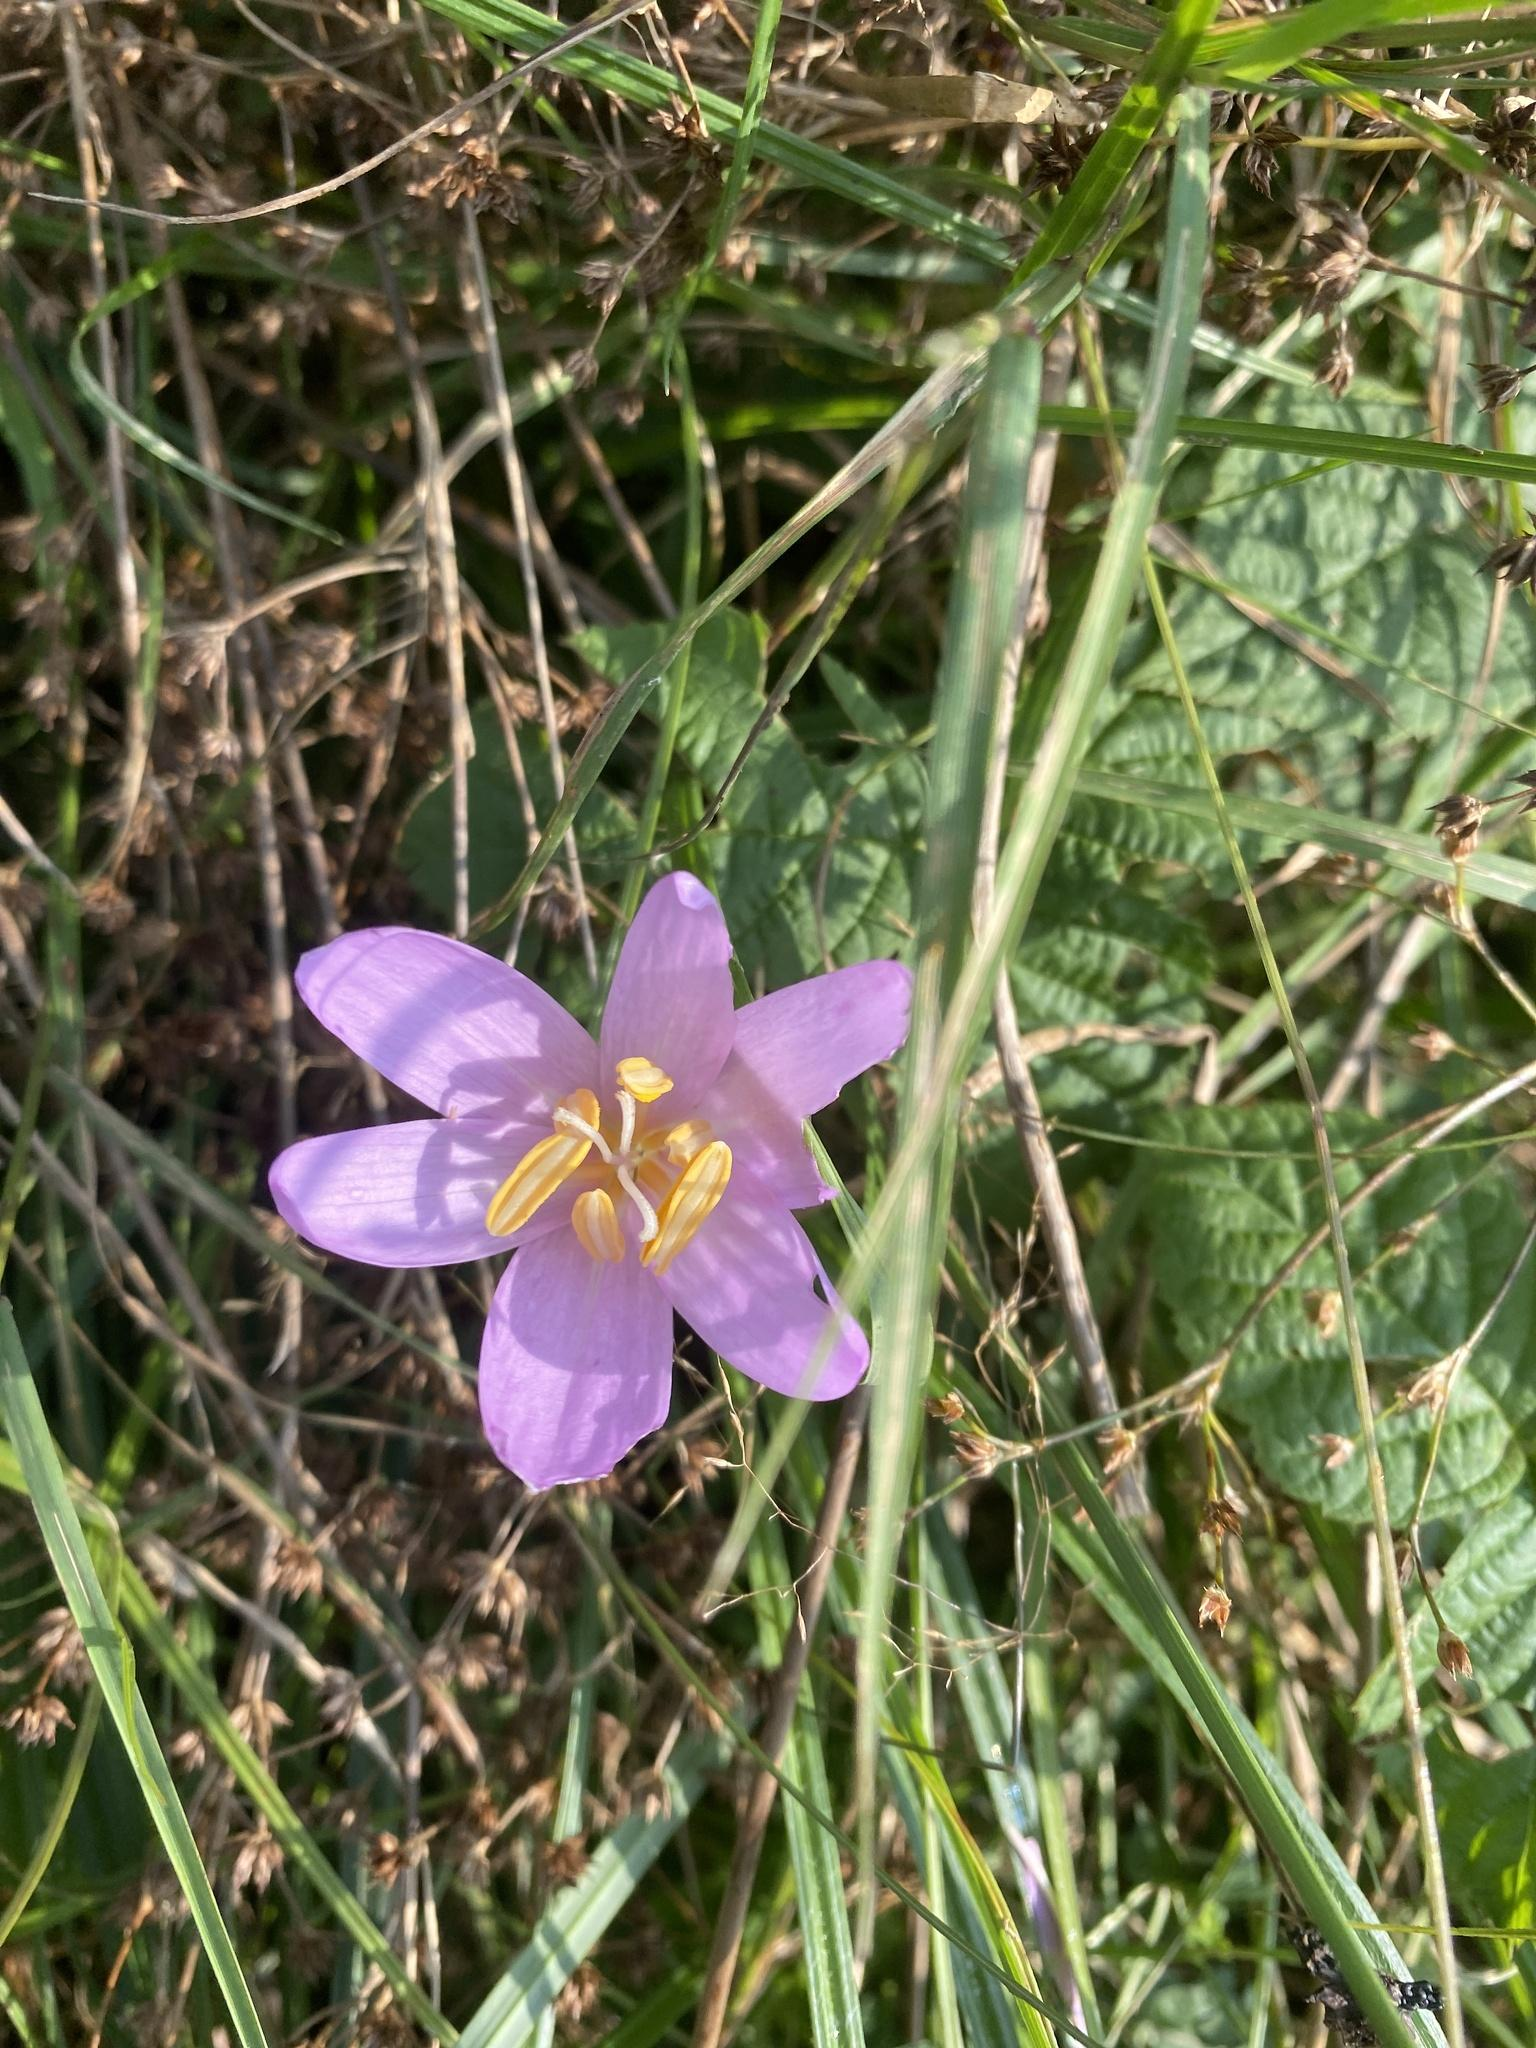Colchicum autumnale L: (286, 877, 1008, 1574)
